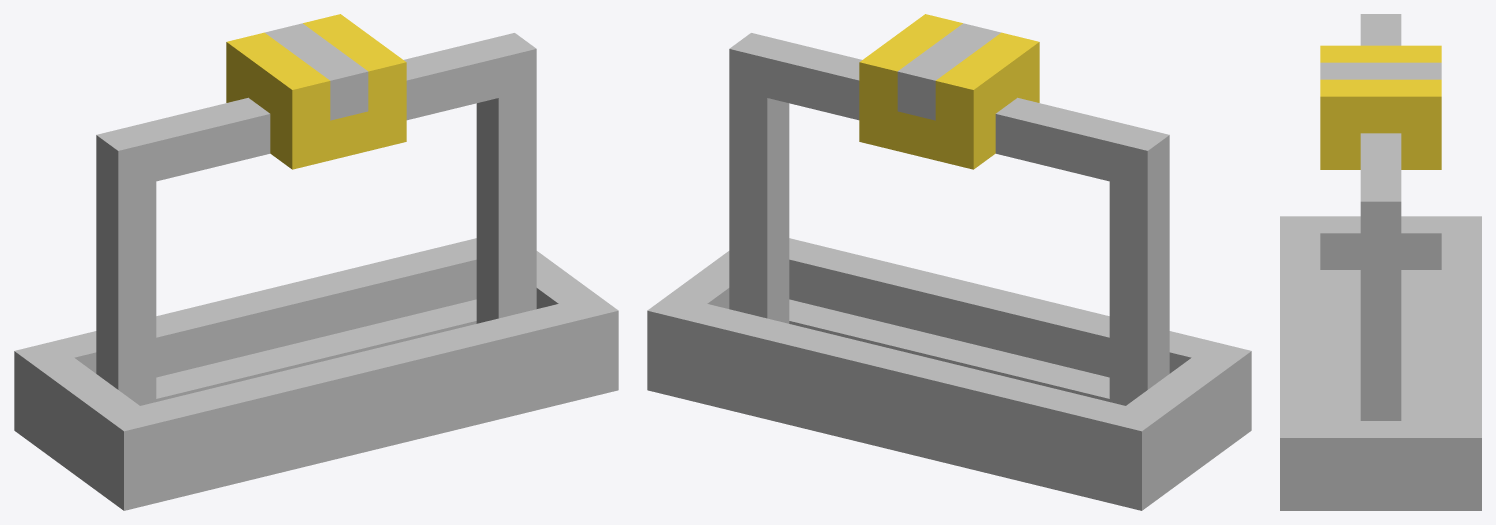
The model's file is 把手右.fbx.
3 renders of one model, left to right at view 1: azimuth 30°, elevation 25°; view 2: azimuth 150°, elevation 25°; view 3: azimuth 270°, elevation 25°, orthographic. The views are drawn at different scales.
Visible parts, largest first — view 1: 把手右; view 2: 把手右; view 3: 把手右.
Boxes of the visible parts, x1,y1,x2,y2 form: 把手右: (14,14,618,510); 把手右: (647,14,1251,510); 把手右: (1280,14,1481,510).
Bounding box in the file's own units: 130 × 90 × 50.
